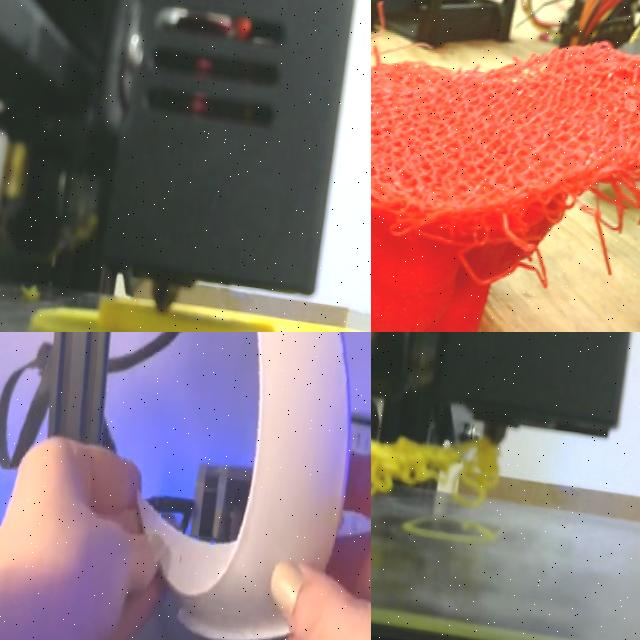spaghetti: (371, 0, 640, 332), (371, 437, 498, 505)
